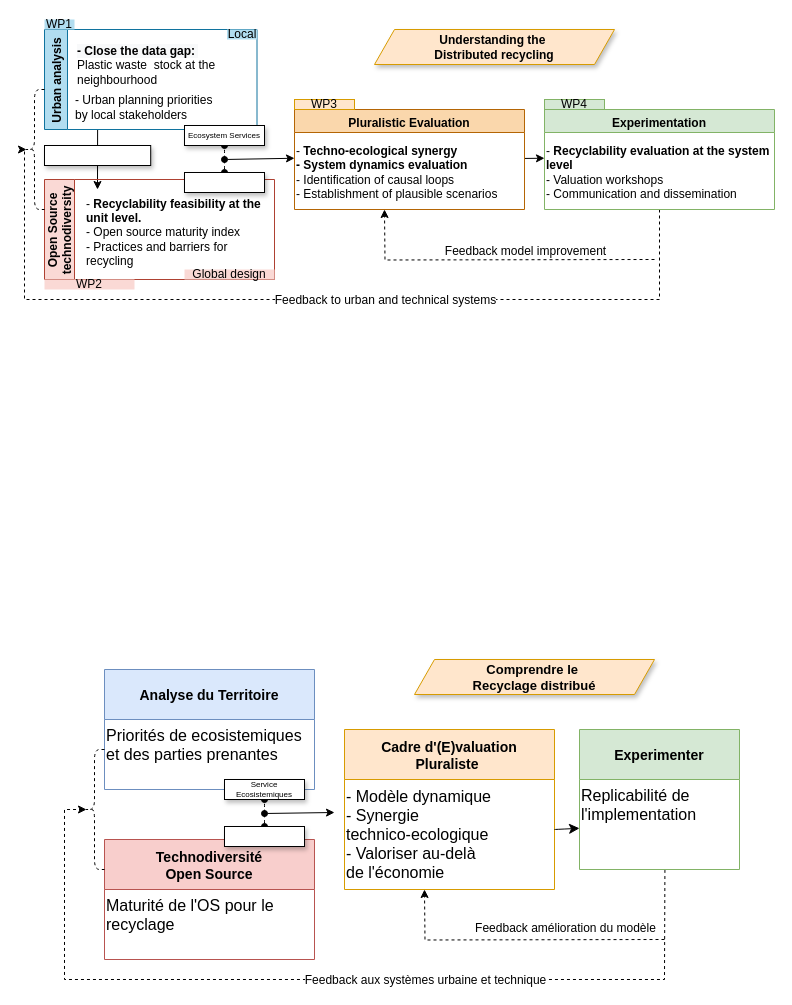
This 792x1005 diagram has some shape labels left out. The centre of each missing label's shape, as x and y in pixels:
Absolute LCA: point 225,184
ACV / TRL: point 265,838
Local stock Index: point 98,156
